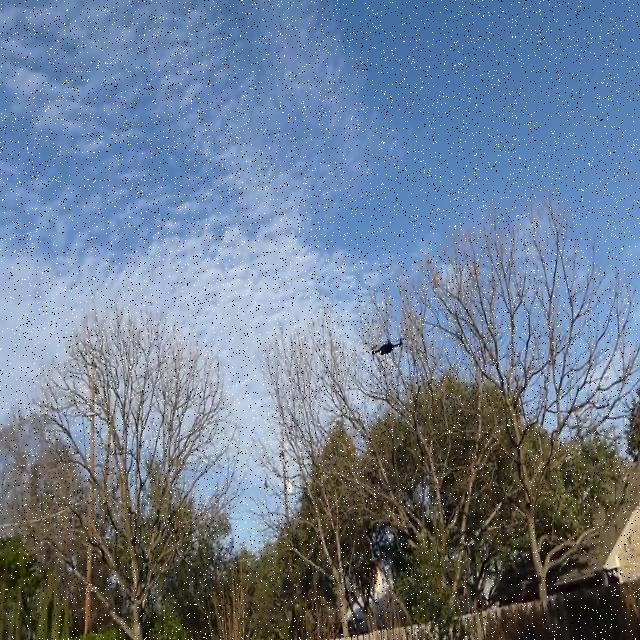UAV: (371, 337, 406, 356)
